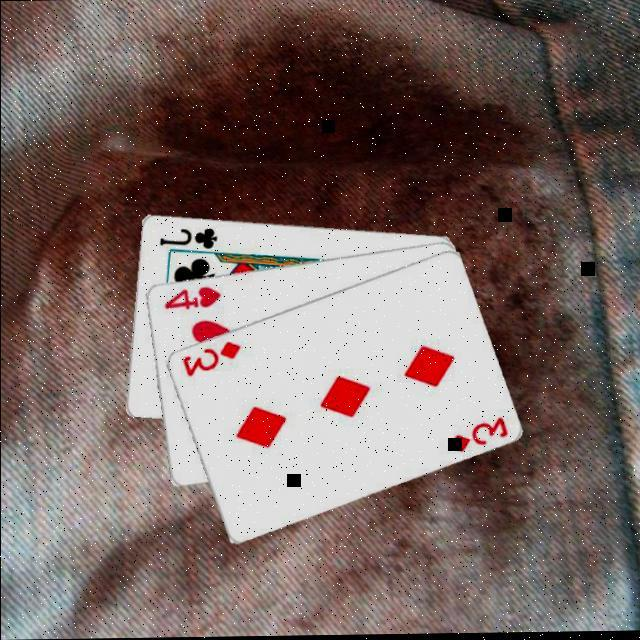3D: (446, 413, 511, 454), (180, 337, 244, 378)
4H: (162, 282, 224, 312)
JC: (157, 222, 220, 251)
